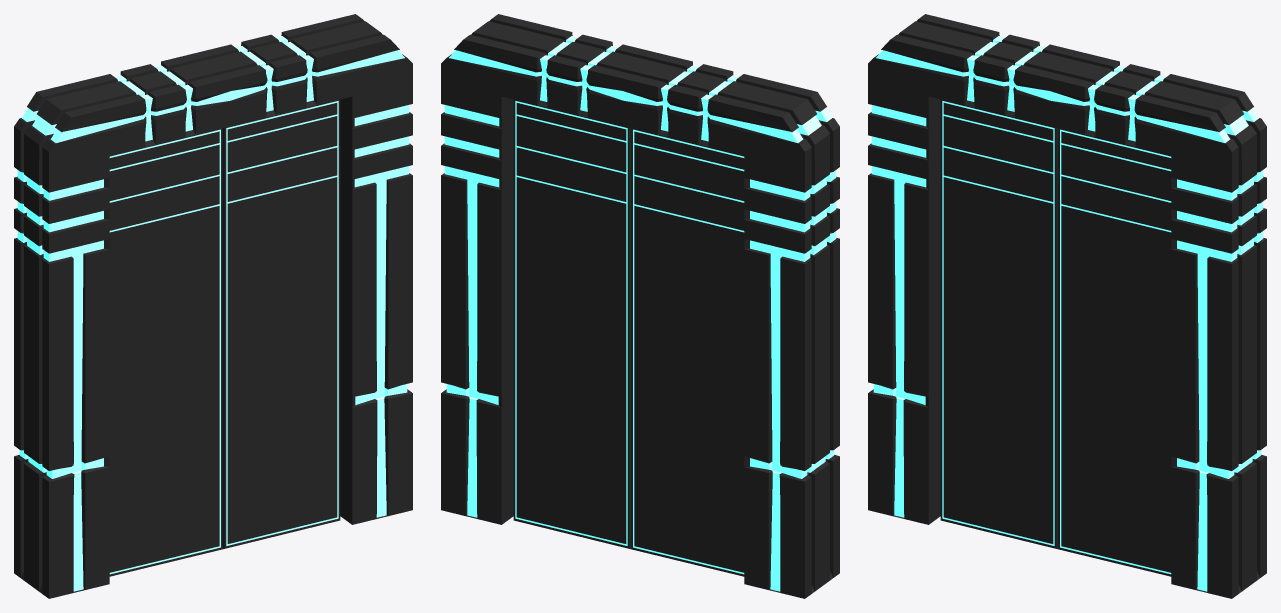
Rendered from The Big Door_Activated.fbx.
The picture shows the model from 3 angles, left to right: view 1: azimuth 30°, elevation 25°; view 2: azimuth 150°, elevation 25°; view 3: azimuth 330°, elevation 25°; orthographic projection.
Visible parts, largest first — view 1: Main Door; view 2: Main Door; view 3: Main Door.
Boxes of the visible parts, <box> form: Main Door: <box>14,14,412,598</box>; Main Door: <box>441,14,839,598</box>; Main Door: <box>868,14,1266,598</box>.
Bounding box in the file's own units: 1200 × 200 × 1501.
